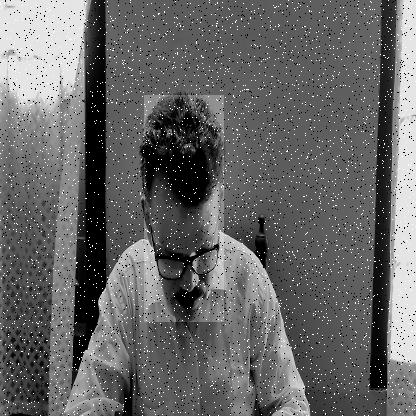Normal: (144, 95, 224, 322)
